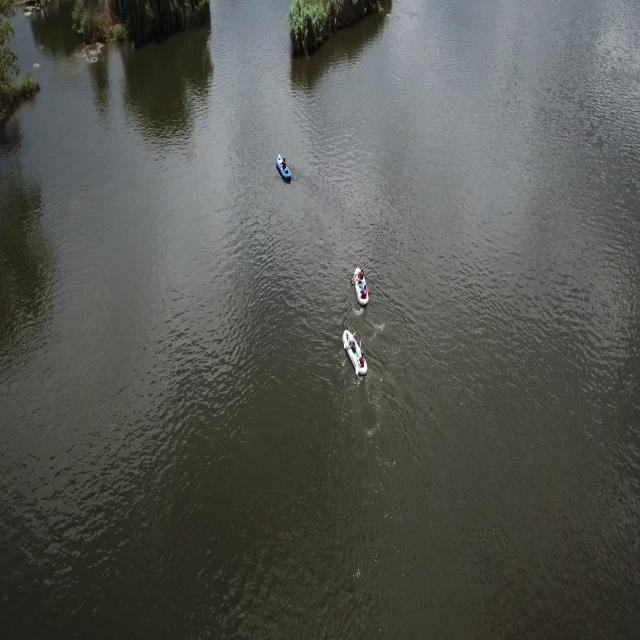kayak: (341, 324, 368, 379), (350, 265, 370, 306), (274, 154, 293, 186)
